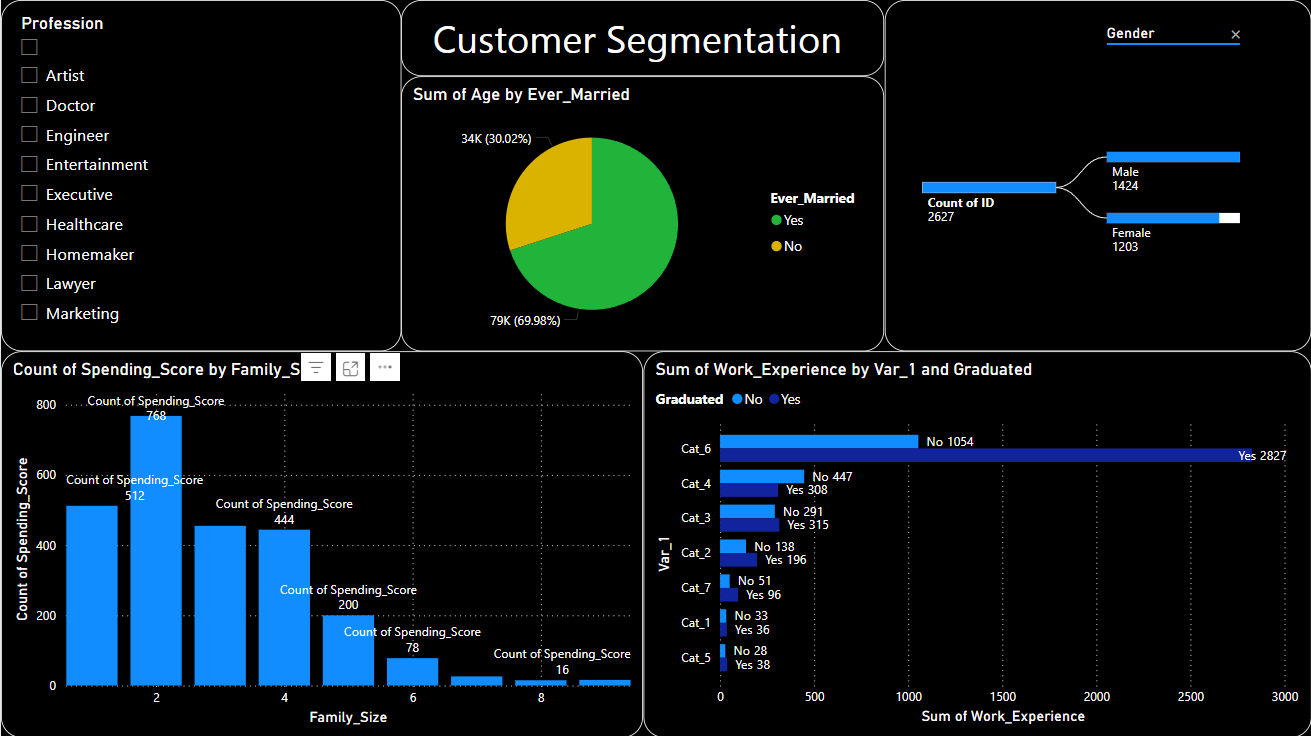

This screenshot's page, from the dashboard's own definition file:
{"tool":"powerbi","page":{"name":"Page 1","canvas":[1280,720],"ordinal":0},"visuals":[{"type":"clusteredColumnChart","fields":{"Y":["CountNonNull(Test.Spending_Score)"],"Category":["Test.Family_Size"]},"box":[0,343.1,627.1,377.4],"z":0},{"type":"slicer","fields":{"Values":["Test.Profession"]},"box":[0,0,391.1,343.1],"z":1000},{"type":"textbox","box":[391.1,0,472,74.1],"z":2000},{"type":"decompositionTreeVisual","fields":{"Analyze":["CountNonNull(Test.ID)"],"ExplainBy":["Test.Gender"]},"box":[863.1,0,417.2,343.1],"z":3000},{"type":"pieChart","fields":{"Y":["Sum(Test.Age)"],"Category":["Test.Ever_Married"]},"box":[391.1,74.1,472,269],"z":4000},{"type":"clusteredBarChart","fields":{"Category":["Test.Var_1"],"Y":["Sum(Test.Work_Experience)"],"Series":["Test.Graduated"]},"box":[627.1,343.1,653.2,377.4],"z":5000}]}

Visuals, with their boxes in screenshot pixels (x1, y1, x2, y2), scaled from the page's 1280x720 canvas onto the 1311x736 screenshot:
clusteredColumnChart - CountNonNull(Test.Spending_Score) x Test.Family_Size: bbox=[0, 351, 642, 735]
slicer - Test.Profession: bbox=[0, 0, 401, 351]
textbox: bbox=[401, 0, 884, 76]
decompositionTreeVisual - CountNonNull(Test.ID) x Test.Gender: bbox=[884, 0, 1310, 351]
pieChart - Sum(Test.Age) x Test.Ever_Married: bbox=[401, 76, 884, 351]
clusteredBarChart - Test.Var_1 x Sum(Test.Work_Experience): bbox=[642, 351, 1310, 735]
